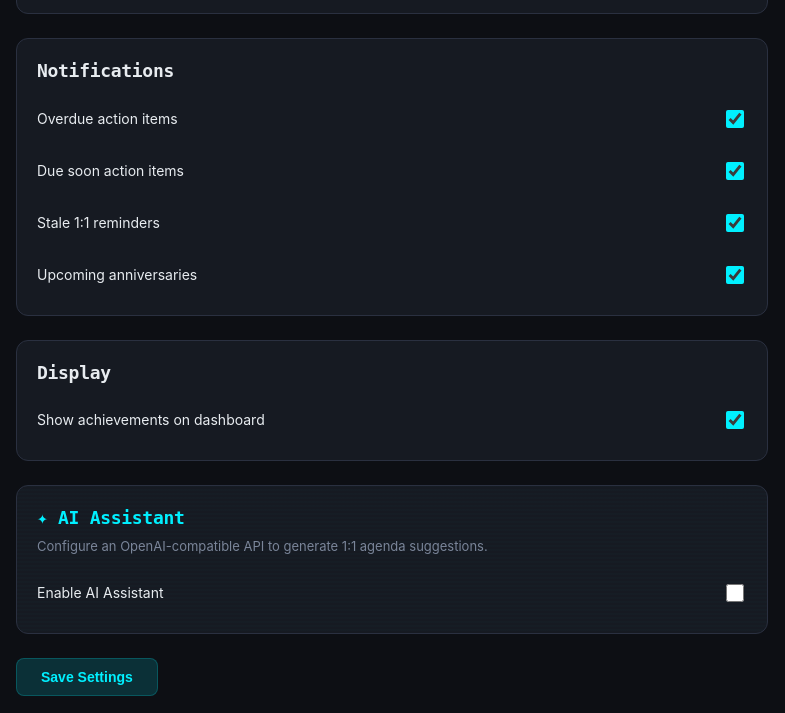
it: SettingsPage › should show success message after saving
(page scrolled)
What coordinates should you click on to do the following:
click the button with test id "settings-save-btn"
I would click on:
 (87, 677)
Its box is [16,658,158,696].
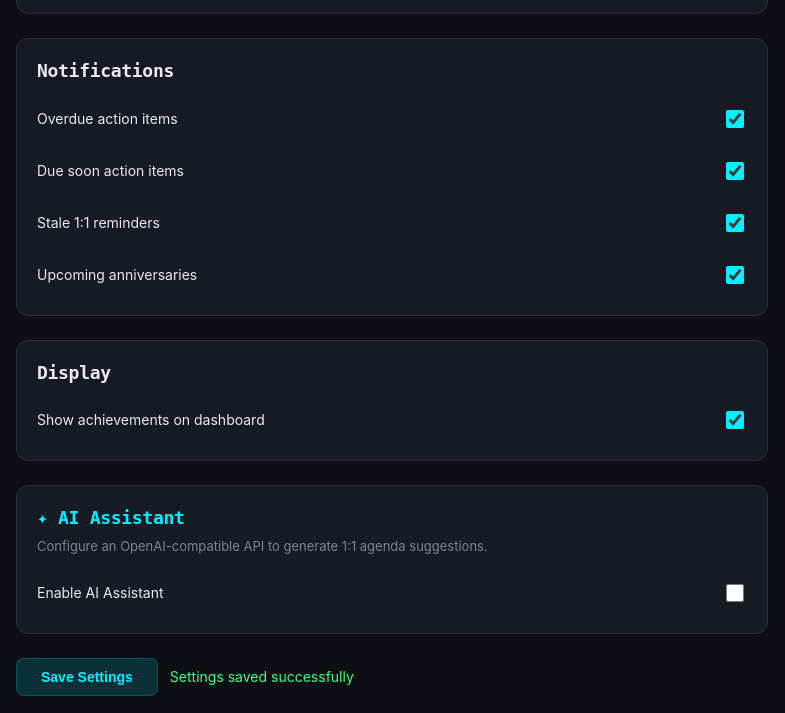
Expected: the text with test id "settings-success" reads "Settings saved successfully", [170,668,354,685]
